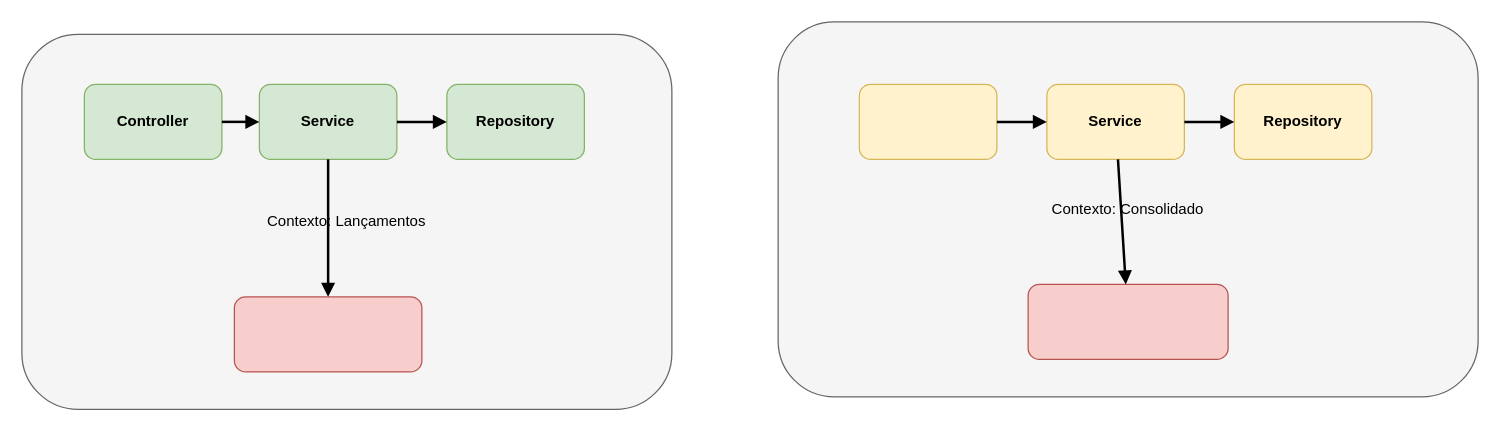
Image size: 1500x431. Some labels were removed from this diagram. Each missing label, with the centre of its shape:
Consumer: point (927, 121)
OutboxPublisher: point (327, 334)
RepoEventoProcessado: point (1127, 321)
